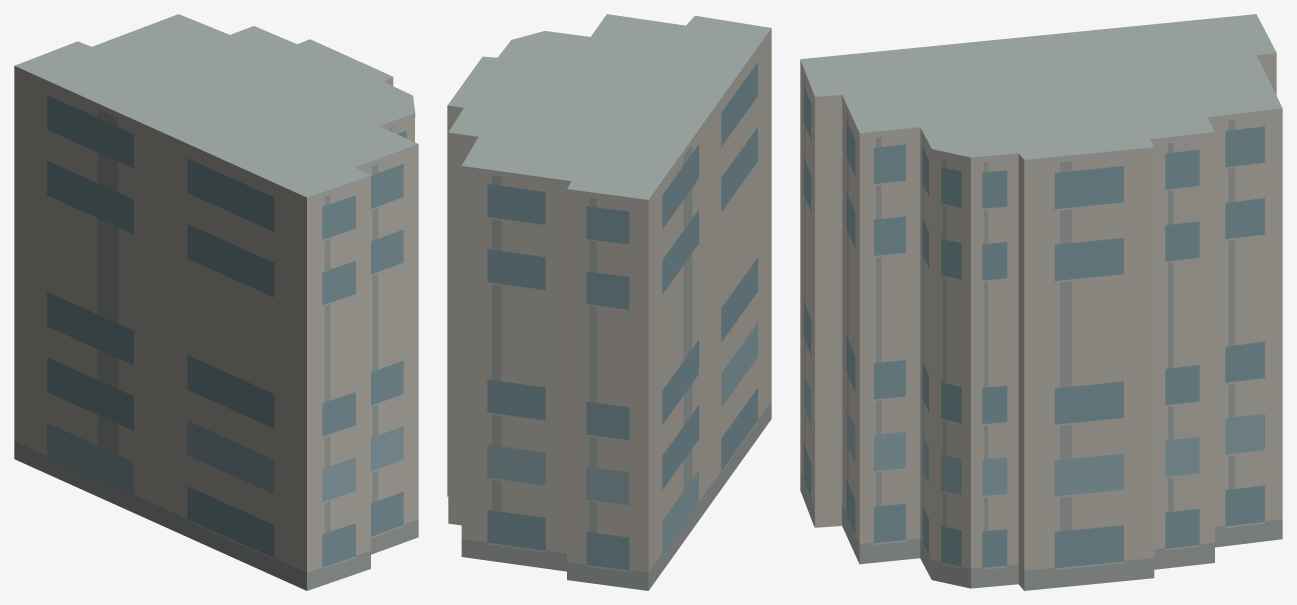
File: survey-upis-32824454.glb
3 renders of one model, left to right at view 1: azimuth 30°, elevation 25°; view 2: azimuth 150°, elevation 25°; view 3: azimuth 270°, elevation 25°, orthographic. The views are drawn at different scales.
Parts seen in each view (by area): view 1: survey-upis-32824454.tmp; view 2: survey-upis-32824454.tmp; view 3: survey-upis-32824454.tmp.
Boxes of the visible parts, x1,y1,x2,y2 form: survey-upis-32824454.tmp: (14,14,418,590); survey-upis-32824454.tmp: (447,14,771,590); survey-upis-32824454.tmp: (800,14,1282,590).
Bounding box in the file's own units: 12.72 × 17.5 × 17.76.
